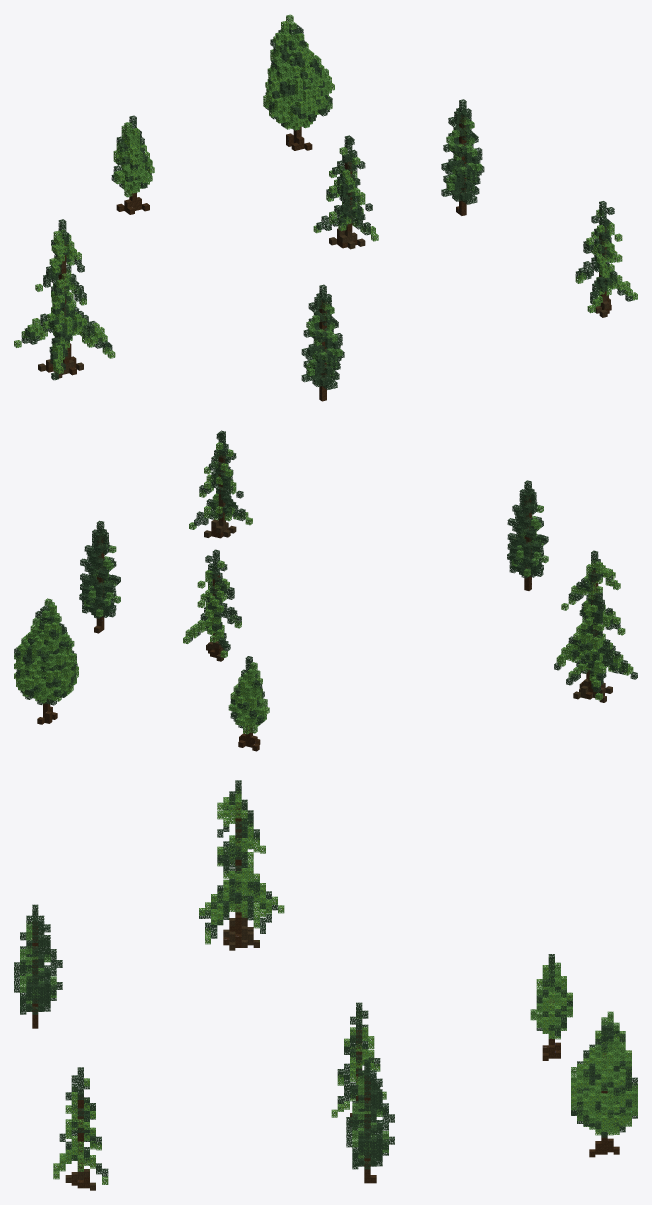
File: Map_tree.fbx
3 renders of one model, top to bottom at view 1: azimuth 30°, elevation 25°; view 2: azimuth 150°, elevation 25°; view 3: azimuth 270°, elevation 25°, orthographic. The views are drawn at different scales.
Visible parts, largest first — view 1: tree2, tree5, tree3, tree1, tree7, tree6, tree4; view 2: tree2, tree5, tree1, tree3, tree7, tree6, tree4; view 3: tree2, tree5, tree7, tree6, tree1, tree4, tree3.
Boxes of the visible parts, x1=… form: tree2: x1=14, y1=219, x2=115, y2=380; tree5: x1=263, y1=14, x2=334, y2=150; tree3: x1=313, y1=135, x2=378, y2=249; tree1: x1=575, y1=201, x2=637, y2=317; tree7: x1=441, y1=99, x2=484, y2=215; tree6: x1=301, y1=284, x2=344, y2=401; tree4: x1=111, y1=115, x2=154, y2=214; tree2: x1=554, y1=550, x2=637, y2=702; tree5: x1=14, y1=598, x2=78, y2=724; tree1: x1=189, y1=430, x2=252, y2=538; tree3: x1=183, y1=549, x2=241, y2=661; tree7: x1=79, y1=520, x2=120, y2=633; tree6: x1=507, y1=480, x2=548, y2=590; tree4: x1=228, y1=656, x2=269, y2=751; tree2: x1=199, y1=780, x2=284, y2=950; tree5: x1=571, y1=1011, x2=637, y2=1157; tree7: x1=346, y1=1059, x2=394, y2=1183; tree6: x1=14, y1=904, x2=62, y2=1028; tree1: x1=53, y1=1067, x2=108, y2=1190; tree4: x1=530, y1=954, x2=572, y2=1060; tree3: x1=331, y1=1002, x2=386, y2=1125.
Bounding box in the file's own units: 400 × 112 × 393.
3 materials, 3 textured.
